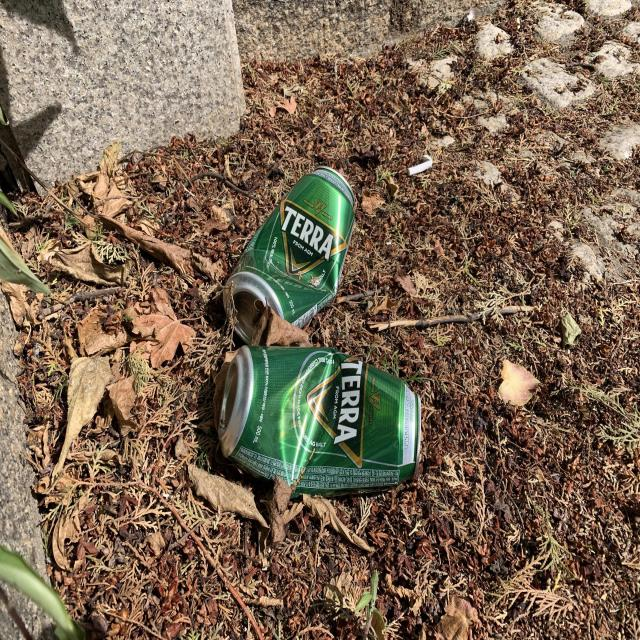can: (217, 346, 422, 496), (223, 165, 355, 343)
